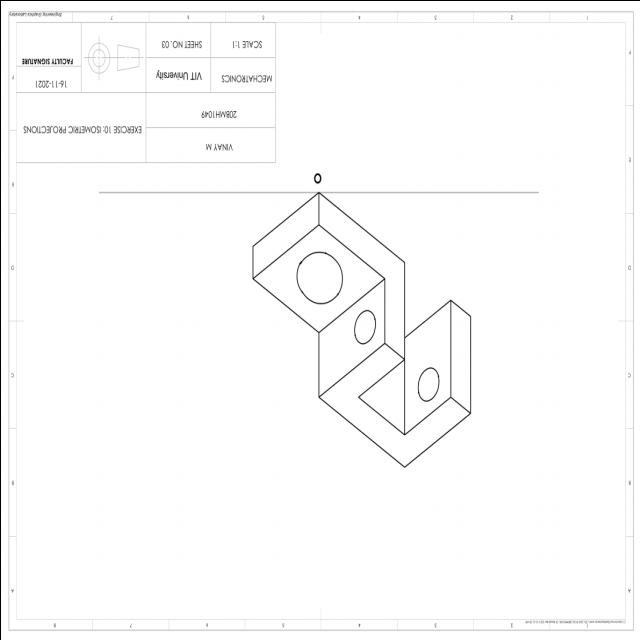Drawings: (92, 170, 544, 476)
